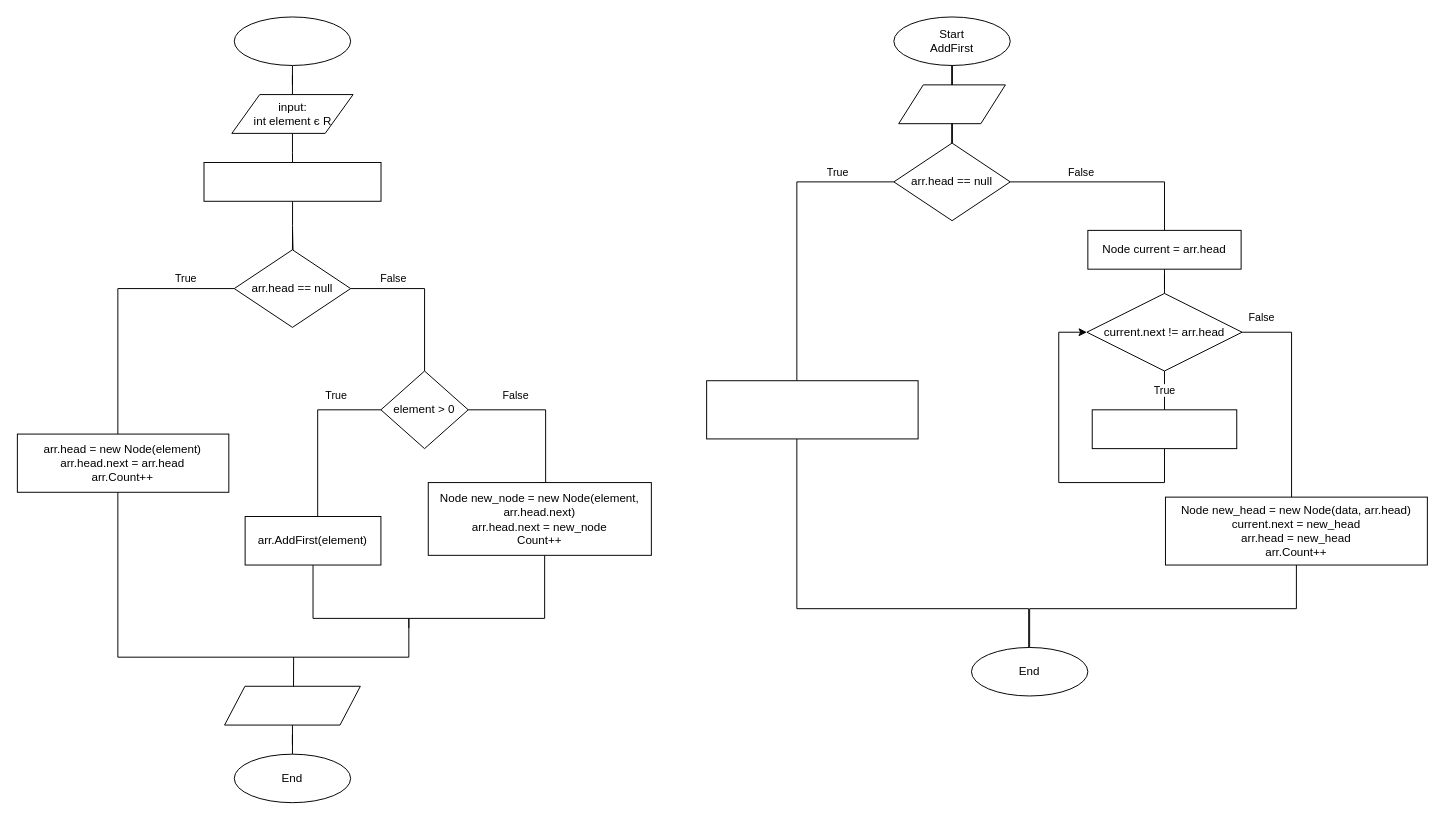
Image size: 1444x820. Some labels were removed from this diagram. Each missing label, with the centre of its shape:
"arr.head = new Node(data) arr.head.next = head arr.Count++" goes at [812,409].
"current = current.next" goes at [1164,429].
"input: int data" goes at [951,104].
"output: arr" goes at [292,705].
"SLList arr = new SLList() arr = random" goes at [292,181].
"Start" goes at [292,40].
